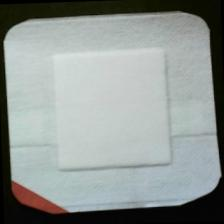Dressing: (2, 10, 224, 222)
Red_T: (9, 173, 69, 221)
